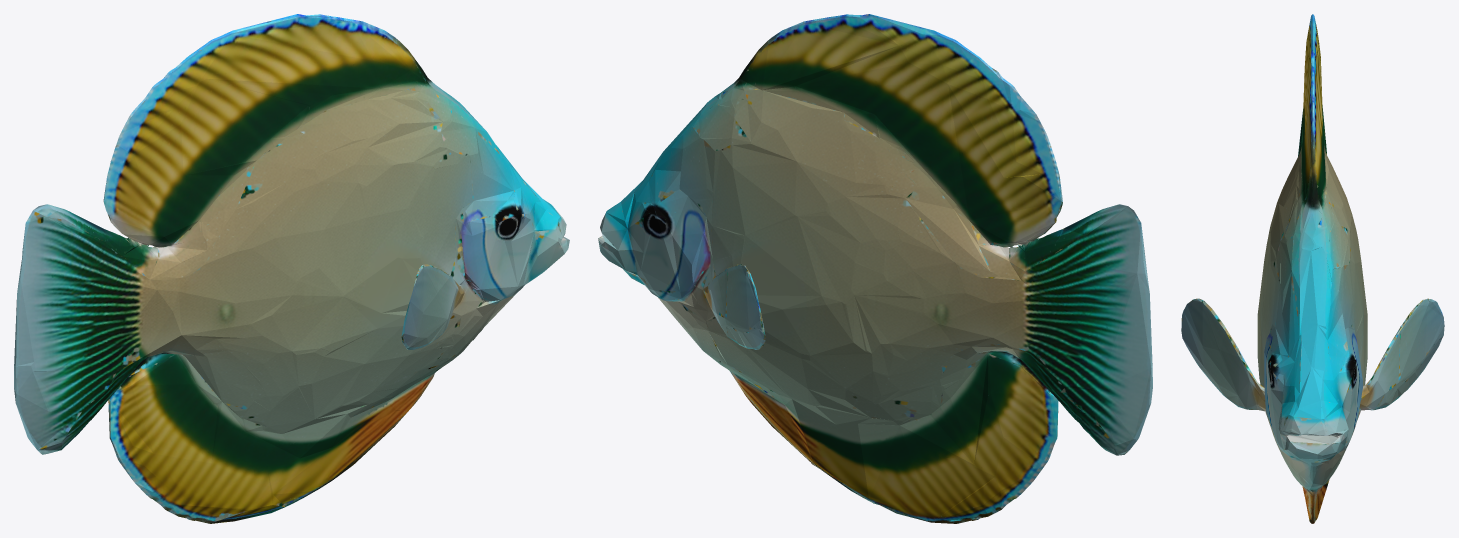
Rendered from fish_0014_smpl23_resized.glb.
3 renders of one model, left to right at view 1: azimuth 30°, elevation 25°; view 2: azimuth 150°, elevation 25°; view 3: azimuth 270°, elevation 25°, orthographic. The views are drawn at different scales.
Parts seen in each view (by area): view 1: world; view 2: world; view 3: world.
Part boxes in pixels (x1=…): world: x1=14, y1=14, x2=569, y2=523; world: x1=598, y1=14, x2=1152, y2=523; world: x1=1181, y1=14, x2=1444, y2=523.
Size of the model in its own units: 1.99 by 1.7 by 0.8533.
1 material, 1 textured.
